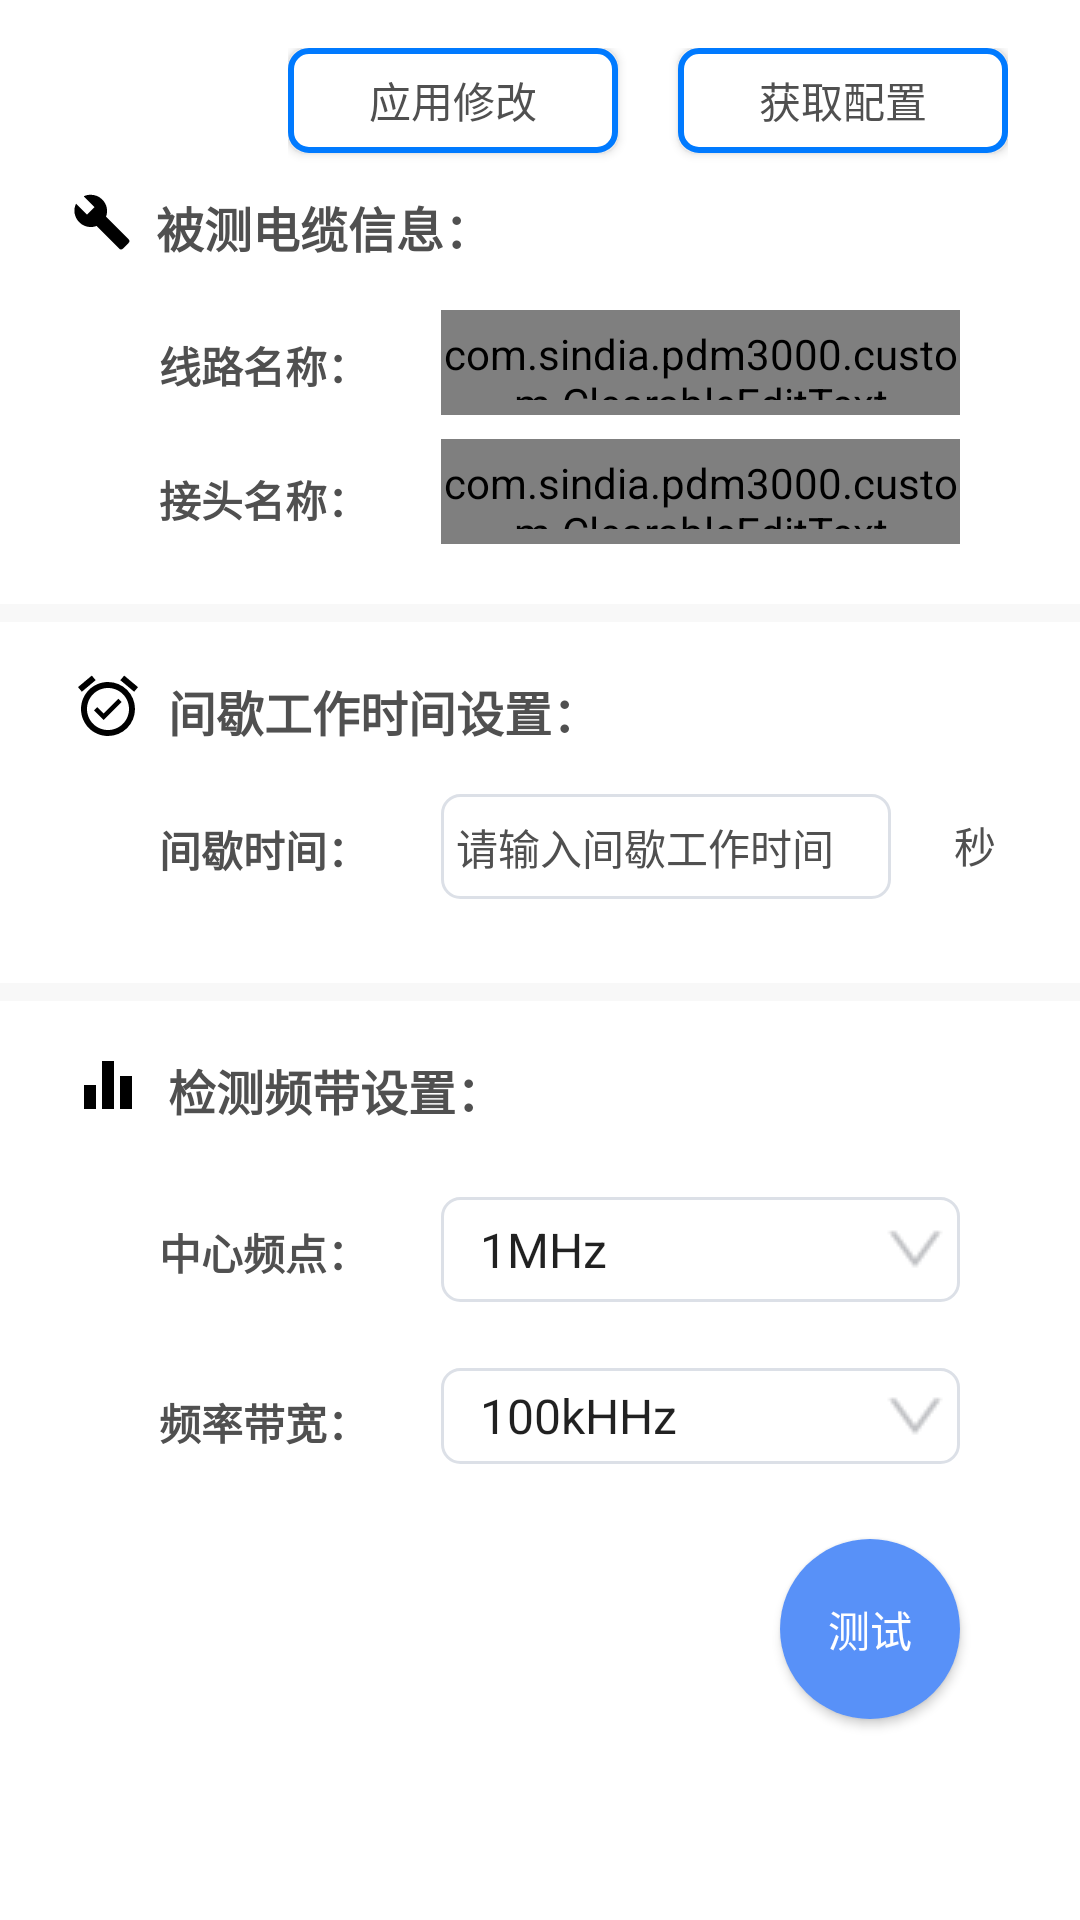

Locate icon controls on the screen. Image size 1080px×1920px, boxes as (x1, y1, x2, y2).
freq set: (84, 1061, 132, 1109)
time set: (78, 675, 138, 736)
